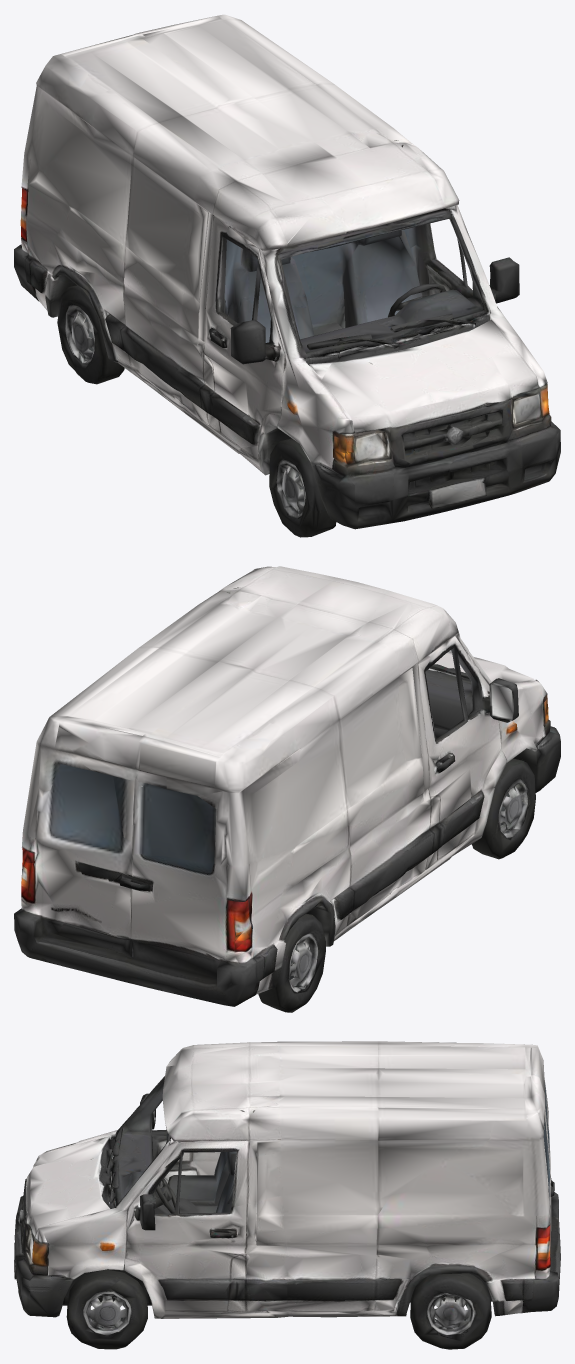
Rendered from veh-van.glb.
3 views of the same model, one above another, from view 1: azimuth 30°, elevation 25°; view 2: azimuth 150°, elevation 25°; view 3: azimuth 270°, elevation 25° (orthographic). The views are drawn at different scales.
Visible parts, largest first — view 1: tripo_node_20acd2cc-a68a-4087-9120-69a39a6957f4; view 2: tripo_node_20acd2cc-a68a-4087-9120-69a39a6957f4; view 3: tripo_node_20acd2cc-a68a-4087-9120-69a39a6957f4.
Part boxes in pixels (x1=…): tripo_node_20acd2cc-a68a-4087-9120-69a39a6957f4: x1=14, y1=14, x2=560, y2=537; tripo_node_20acd2cc-a68a-4087-9120-69a39a6957f4: x1=14, y1=566, x2=560, y2=1012; tripo_node_20acd2cc-a68a-4087-9120-69a39a6957f4: x1=14, y1=1041, x2=560, y2=1349.
Size of the model in its own units: 0.4735 by 0.4587 by 0.9791.
Materials: 1 (1 with a texture image).
